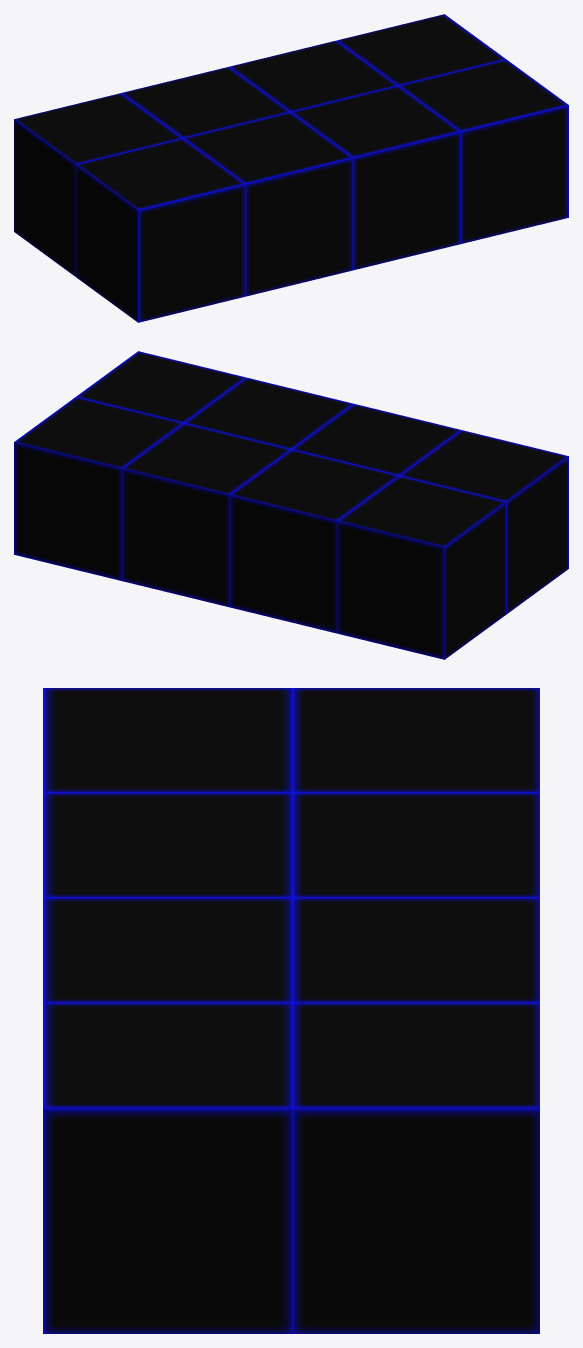
3 renders of one model, top to bottom at view 1: azimuth 30°, elevation 25°; view 2: azimuth 150°, elevation 25°; view 3: azimuth 270°, elevation 25°, orthographic. The views are drawn at different scales.
Visible parts, largest first — view 1: Box001; view 2: Box001; view 3: Box001.
Part boxes in pixels (left/top/right/bottom): Box001: left=14, top=14, right=568, bottom=322; Box001: left=14, top=351, right=568, bottom=659; Box001: left=43, top=688, right=539, bottom=1333.
Size of the model in its own units: 4 by 1 by 2.
Materials: 1 (1 with a texture image).
